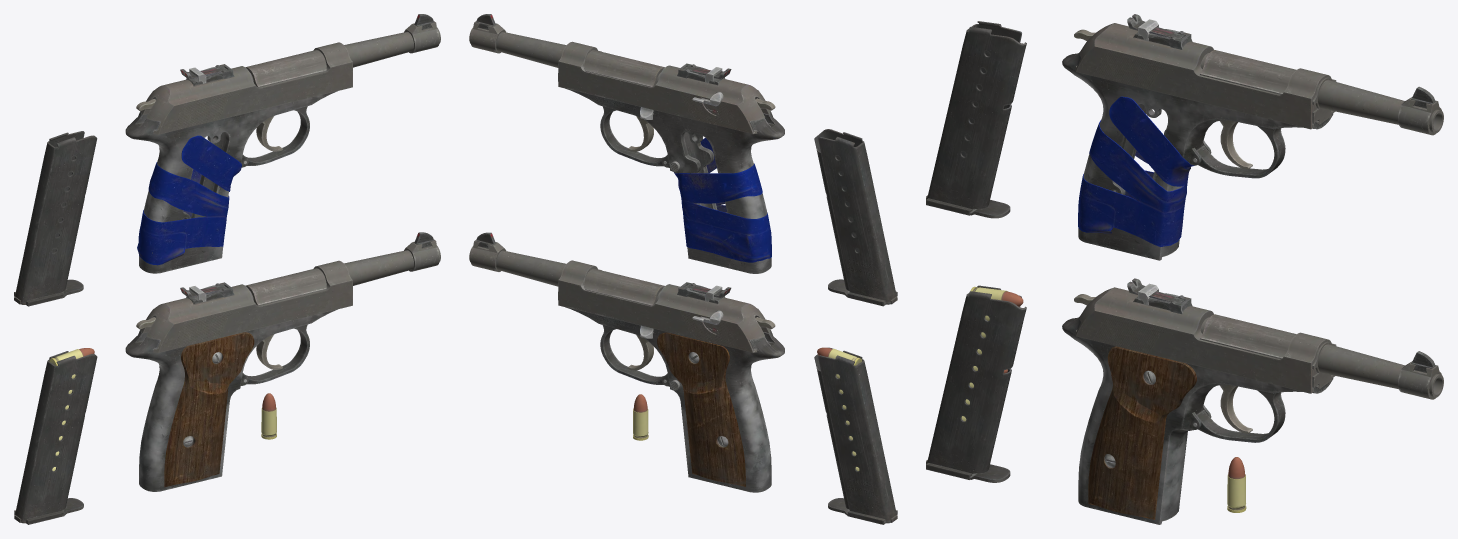
The model's file is service_pistol.glb.
3 views of the same model, side by side, from view 1: azimuth 30°, elevation 25°; view 2: azimuth 150°, elevation 25°; view 3: azimuth 330°, elevation 25° (orthographic). The views are drawn at different scales.
Visible parts, largest first — view 1: service_pistol_pistol_b, service_pistol_pistol_a, service_pistol_magazine_loaded, service_pistol_magazine_empty, service_pistol_slide_a, service_pistol_slide_b, service_pistol_bullet; view 2: service_pistol_pistol_b, service_pistol_pistol_a, service_pistol_magazine_loaded, service_pistol_magazine_empty, service_pistol_slide_a, service_pistol_slide_b, service_pistol_bullet; view 3: service_pistol_pistol_a, service_pistol_pistol_b, service_pistol_magazine_loaded, service_pistol_magazine_empty, service_pistol_slide_b, service_pistol_slide_a, service_pistol_bullet, service_pistol_trigger_b, service_pistol_trigger_a.
Boxes of the visible parts, bbox=[...] form: service_pistol_pistol_b: bbox=[125, 14, 440, 273]; service_pistol_pistol_a: bbox=[125, 232, 440, 491]; service_pistol_magazine_loaded: bbox=[14, 348, 97, 524]; service_pistol_magazine_empty: bbox=[14, 131, 97, 306]; service_pistol_slide_a: bbox=[141, 260, 352, 352]; service_pistol_slide_b: bbox=[141, 42, 352, 134]; service_pistol_bullet: bbox=[261, 393, 276, 439]; service_pistol_pistol_b: bbox=[469, 14, 784, 273]; service_pistol_pistol_a: bbox=[469, 232, 784, 492]; service_pistol_magazine_loaded: bbox=[814, 347, 897, 524]; service_pistol_magazine_empty: bbox=[814, 129, 897, 306]; service_pistol_slide_a: bbox=[558, 260, 772, 352]; service_pistol_slide_b: bbox=[558, 41, 772, 133]; service_pistol_bullet: bbox=[633, 394, 648, 440]; service_pistol_pistol_a: bbox=[1062, 314, 1443, 524]; service_pistol_pistol_b: bbox=[1062, 50, 1443, 260]; service_pistol_magazine_loaded: bbox=[926, 285, 1026, 482]; service_pistol_magazine_empty: bbox=[926, 21, 1026, 218]; service_pistol_slide_b: bbox=[1075, 14, 1336, 129]; service_pistol_slide_a: bbox=[1075, 278, 1336, 393]; service_pistol_bullet: bbox=[1227, 457, 1246, 512]; service_pistol_trigger_b: bbox=[1220, 120, 1252, 169]; service_pistol_trigger_a: bbox=[1220, 384, 1252, 433].
Bounding box in the file's own units: 0.3016 × 0.2807 × 0.0318.
1 material, 1 textured.
